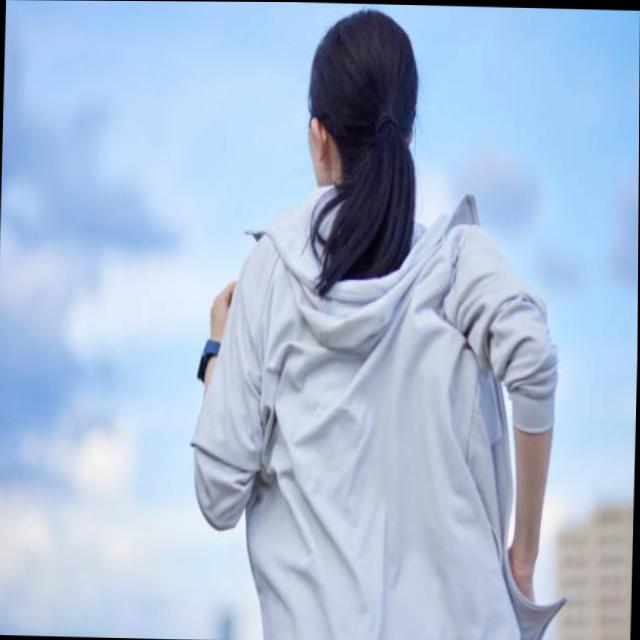no helmet: (291, 2, 426, 213)
